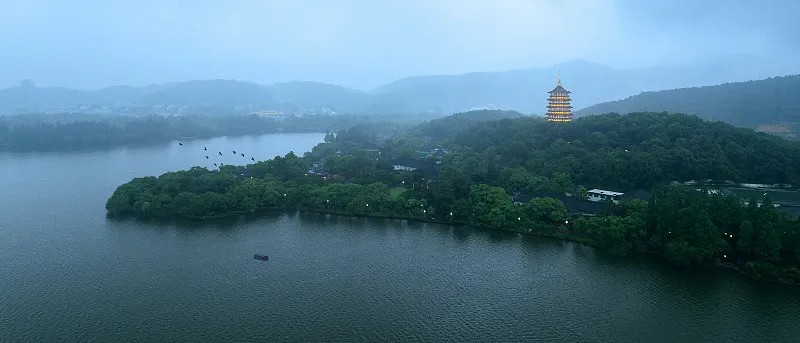Leifeng: (547, 65, 573, 125)
